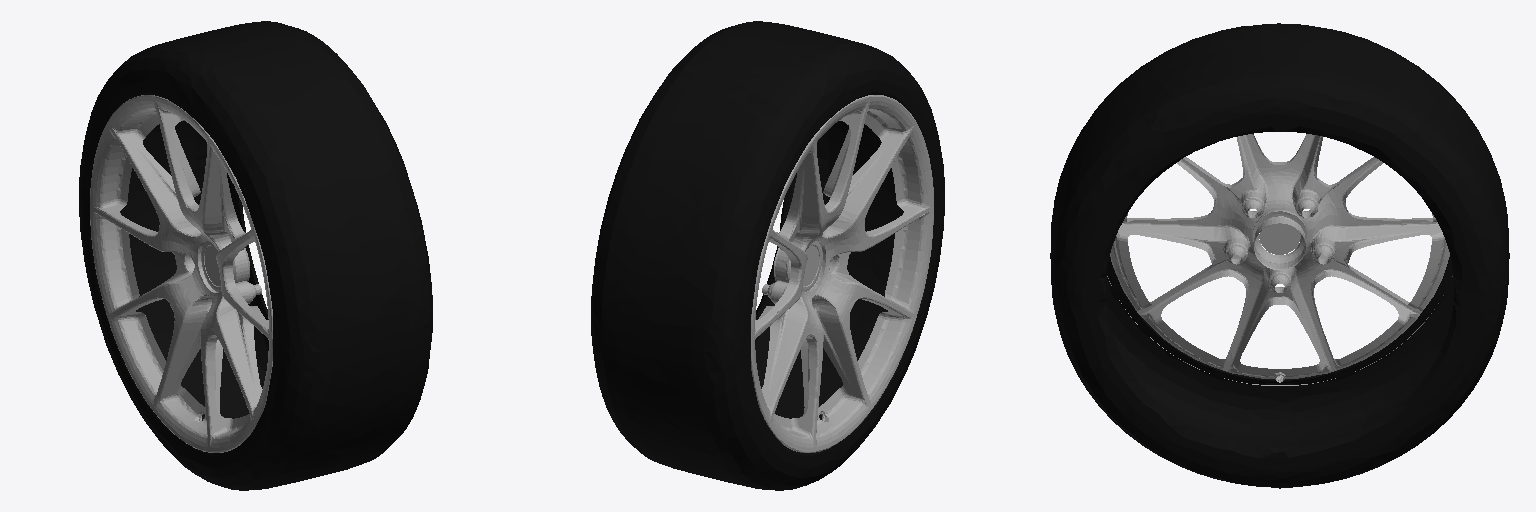
Rendered from rad_vr.obj.
3 views of the same model, side by side, from view 1: azimuth 30°, elevation 25°; view 2: azimuth 150°, elevation 25°; view 3: azimuth 270°, elevation 25° (orthographic).
Parts seen in each view (by area): view 1: reifen-vorne, felge-vorne; view 2: reifen-vorne, felge-vorne; view 3: reifen-vorne, felge-vorne.
Boxes of the visible parts, box(x1,y1,x2,y2) form: reifen-vorne: box(79, 21, 432, 490); felge-vorne: box(90, 95, 272, 452); reifen-vorne: box(591, 21, 944, 490); felge-vorne: box(751, 95, 933, 452); reifen-vorne: box(1050, 23, 1509, 488); felge-vorne: box(1107, 134, 1452, 385).
Size of the model in its own units: 246 by 653 by 653.